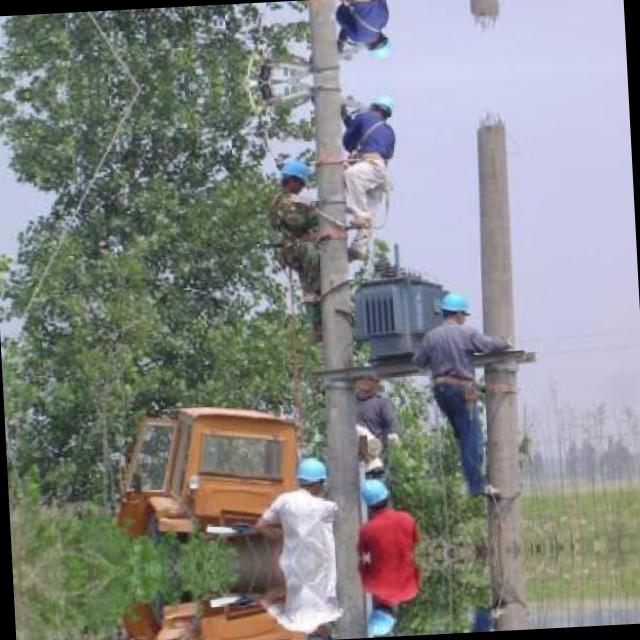helmet: (436, 288, 474, 330), (293, 454, 326, 502), (362, 596, 400, 636), (356, 476, 392, 518), (278, 160, 312, 196), (360, 26, 393, 59), (364, 94, 396, 127), (302, 620, 335, 640)
